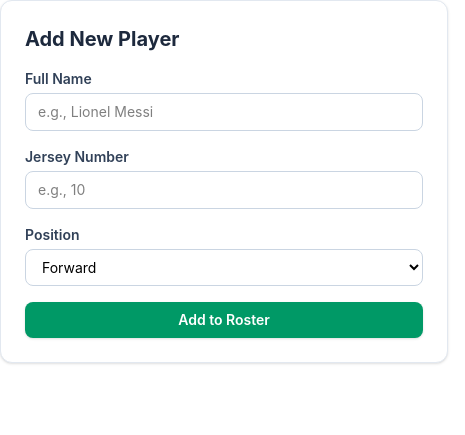
Test: PlayerForm › submits a new player and shows a success message
Type "Mia" into the field with placeholder "e.g., Lionel Messi". click: (224, 112)
box: [25,93,423,131]
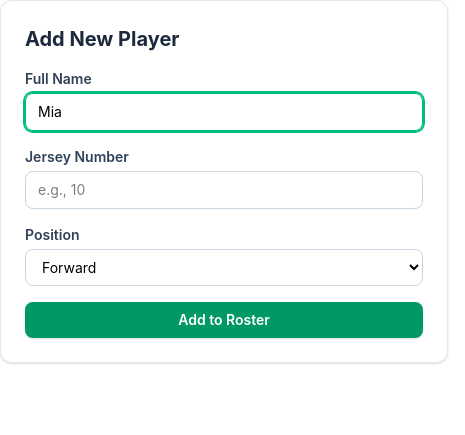
Type "10" into the number field with placeholder "e.g., 10". click: (224, 190)
box: [25,171,423,209]
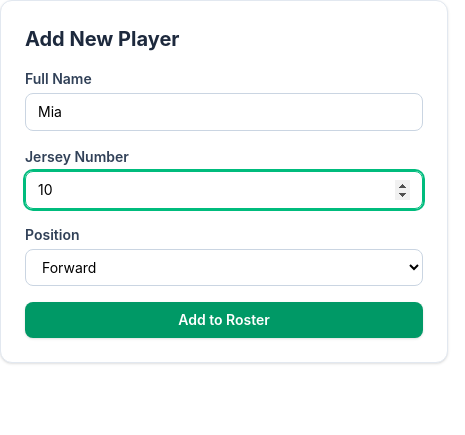
Select "Forward" in the dropdown. click: (224, 268)
box: [25,249,423,286]
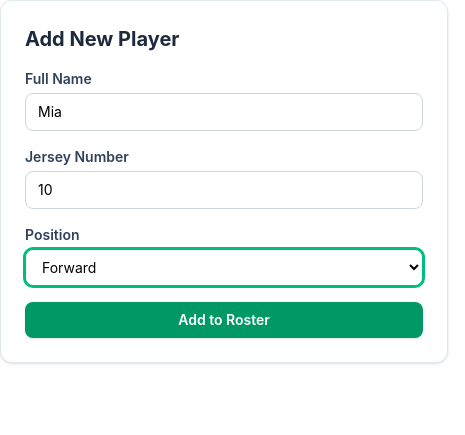
Click the button "Add to Roster". click: (224, 320)
box: [25,302,423,338]
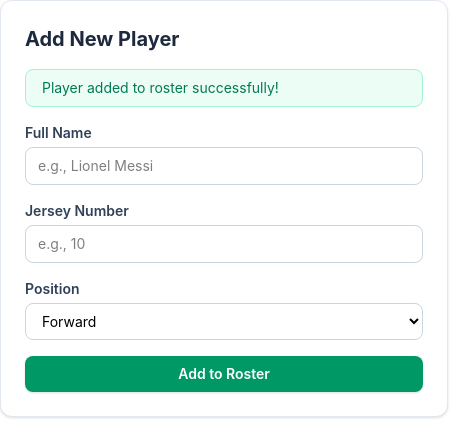
Check: the text "Player added to roster successfully!" is shown, box [25,69,423,107]
